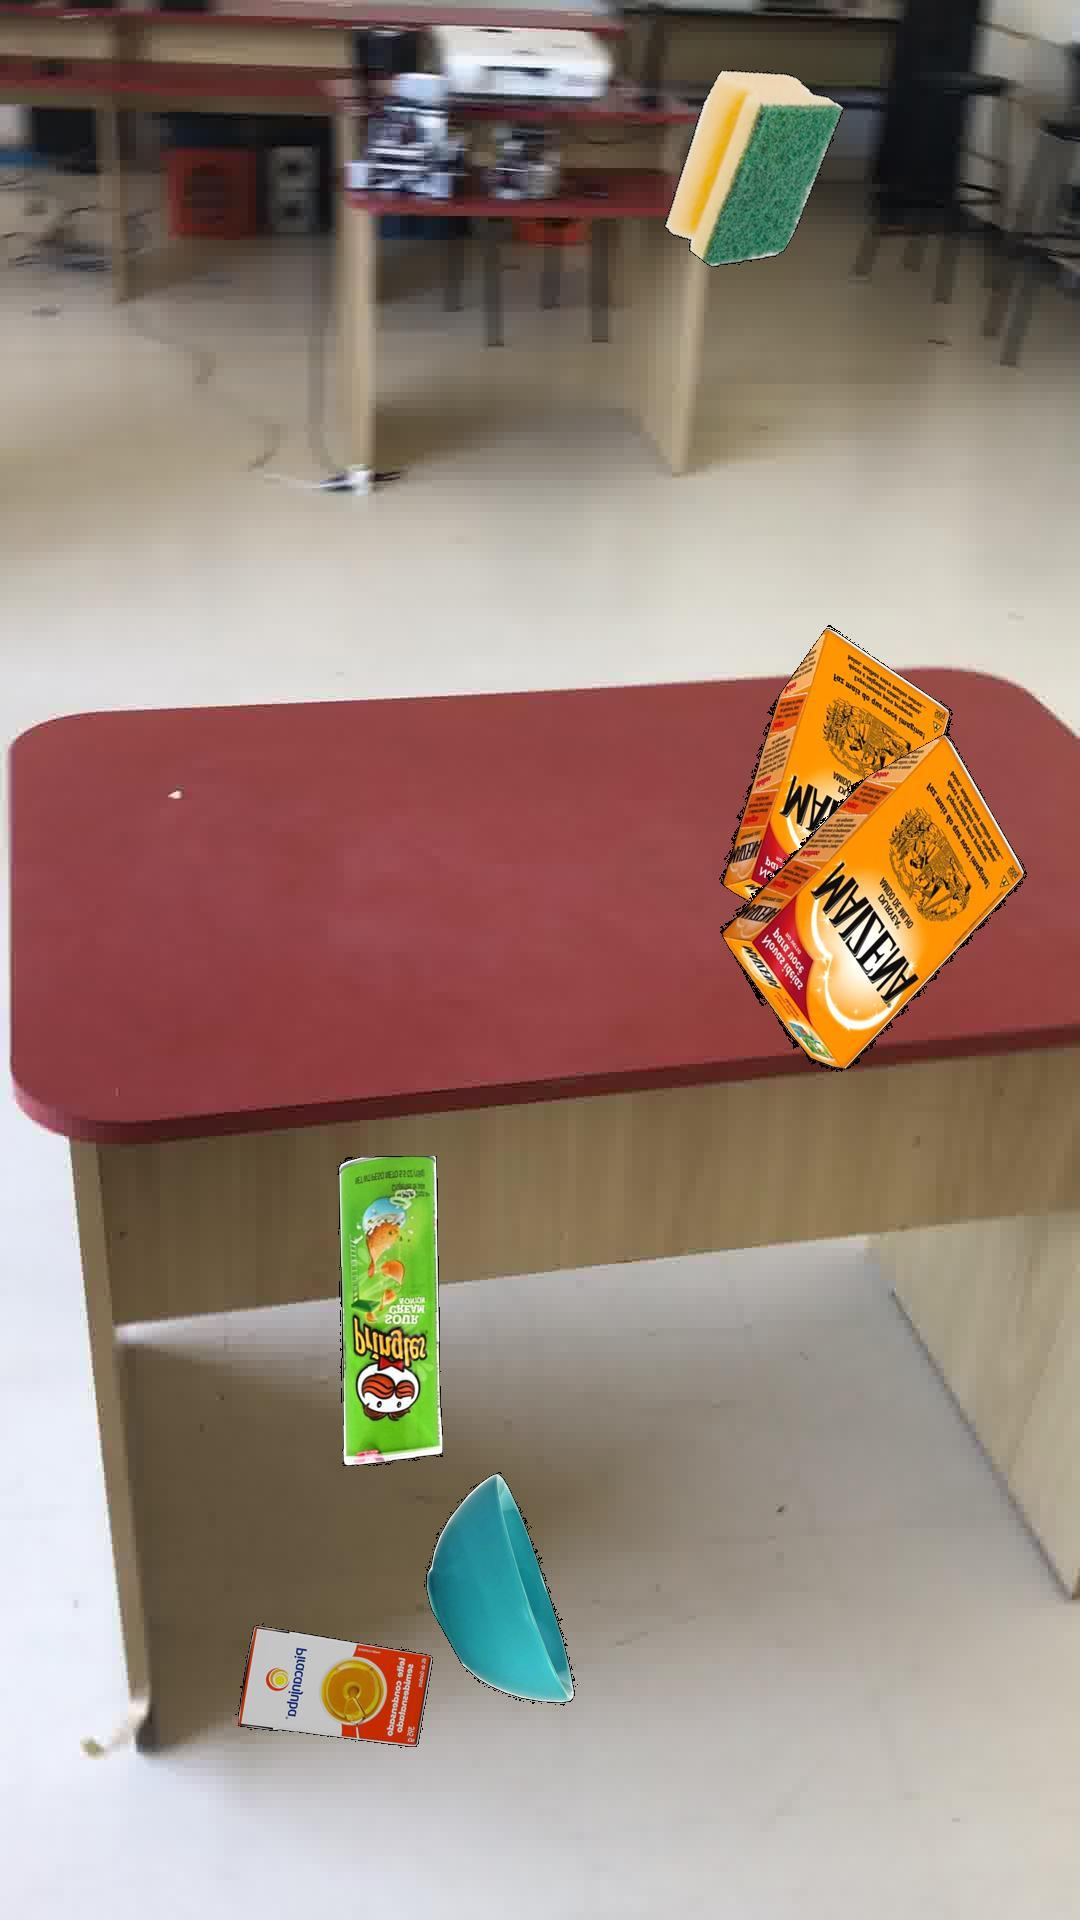bowl: (425, 1472, 574, 1701)
pringles: (336, 1154, 442, 1465)
sponge: (662, 67, 843, 265)
